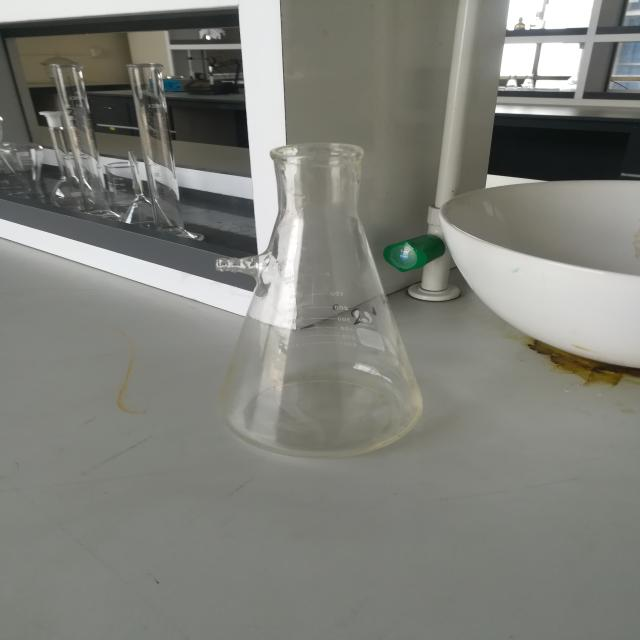Conical_Flask: (192, 112, 454, 493)
